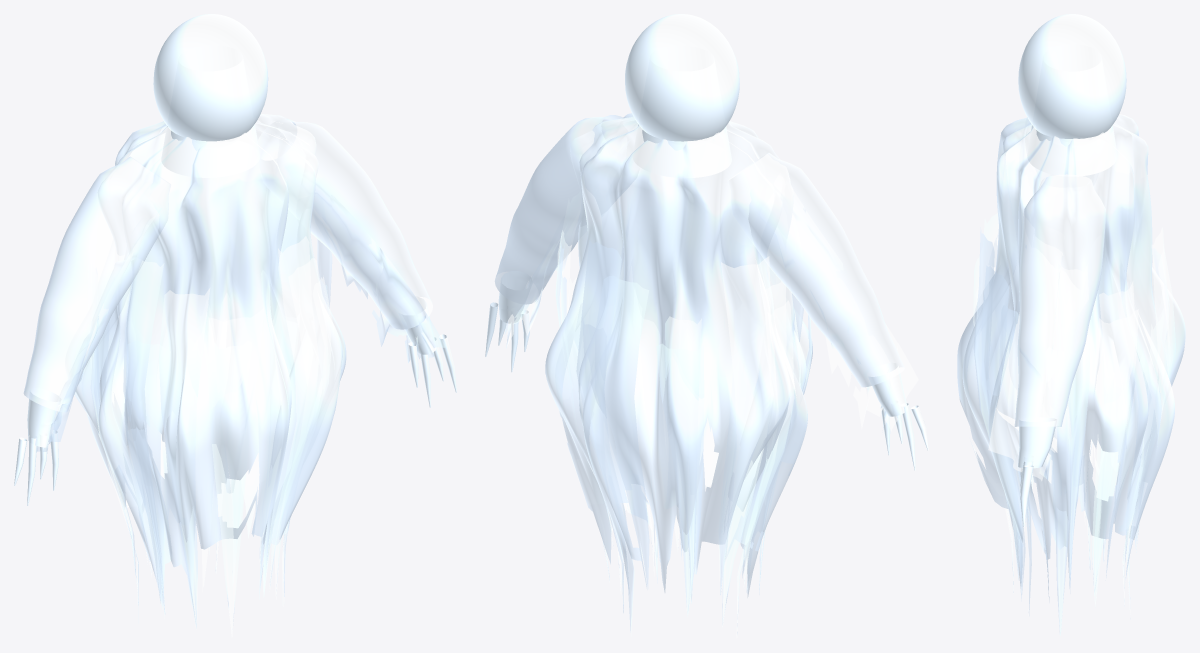
Rendered from teen.glb.
3 renders of one model, left to right at view 1: azimuth 30°, elevation 25°; view 2: azimuth 150°, elevation 25°; view 3: azimuth 270°, elevation 25°, orthographic.
Parts seen in each view (by area): view 1: 01_Main_Draped_Shroud, 03_Left_Flowing_Sleeve, 03_Right_Flowing_Sleeve, 00_Smooth_Featureless_Head, 05_Torn_Layer_13, 05_Torn_Layer_14, 04_Right_Sleeve_Tattered_Curtain, 05_Torn_Layer_16, 05_Torn_Layer_11, 05_Torn_Layer_12, 05_Torn_Layer_17, 02_Head_Neck_Transition (+11 smaller); view 2: 01_Main_Draped_Shroud, 03_Left_Flowing_Sleeve, 03_Right_Flowing_Sleeve, 00_Smooth_Featureless_Head, 05_Torn_Layer_08, 05_Torn_Layer_05, 04_Left_Sleeve_Tattered_Curtain, 05_Torn_Layer_04, 05_Torn_Layer_06, 05_Torn_Layer_07, 02_Head_Neck_Transition, 05_Torn_Layer_17 (+9 smaller); view 3: 01_Main_Draped_Shroud, 03_Right_Flowing_Sleeve, 00_Smooth_Featureless_Head, 04_Right_Sleeve_Tattered_Curtain, 05_Torn_Layer_01, 05_Torn_Layer_02, 05_Torn_Layer_00, 05_Torn_Layer_17, 02_Head_Neck_Transition, 05_Torn_Layer_19, 05_Torn_Layer_16, 05_Torn_Layer_04 (+9 smaller).
Part boxes in pixels (x1,y1,x2,y2): 01_Main_Draped_Shroud: (74, 114, 346, 609); 03_Left_Flowing_Sleeve: (23, 156, 170, 411); 03_Right_Flowing_Sleeve: (258, 119, 432, 329); 00_Smooth_Featureless_Head: (153, 14, 268, 141); 05_Torn_Layer_13: (159, 288, 210, 628); 05_Torn_Layer_14: (208, 308, 264, 636); 04_Right_Sleeve_Tattered_Curtain: (308, 172, 446, 363); 05_Torn_Layer_16: (269, 236, 319, 591); 05_Torn_Layer_11: (125, 341, 170, 603); 05_Torn_Layer_12: (123, 259, 165, 618); 05_Torn_Layer_17: (275, 258, 328, 599); 02_Head_Neck_Transition: (161, 124, 259, 177); 01_Main_Draped_Shroud: (545, 113, 812, 597); 03_Left_Flowing_Sleeve: (728, 152, 904, 387); 03_Right_Flowing_Sleeve: (494, 115, 639, 304); 00_Smooth_Featureless_Head: (625, 14, 739, 141); 05_Torn_Layer_08: (721, 256, 771, 626); 05_Torn_Layer_05: (594, 276, 649, 589); 04_Left_Sleeve_Tattered_Curtain: (774, 193, 918, 432); 05_Torn_Layer_04: (576, 240, 634, 636); 05_Torn_Layer_06: (665, 316, 701, 603); 05_Torn_Layer_07: (656, 343, 704, 616); 02_Head_Neck_Transition: (633, 124, 731, 177); 05_Torn_Layer_17: (640, 320, 671, 565); 01_Main_Draped_Shroud: (957, 114, 1185, 602); 03_Right_Flowing_Sleeve: (1014, 174, 1105, 426); 00_Smooth_Featureless_Head: (1018, 14, 1126, 138); 04_Right_Sleeve_Tattered_Curtain: (988, 205, 1062, 483); 05_Torn_Layer_01: (1094, 281, 1135, 595); 05_Torn_Layer_02: (1092, 309, 1138, 606); 05_Torn_Layer_00: (1058, 267, 1089, 588); 05_Torn_Layer_17: (981, 266, 1025, 600); 02_Head_Neck_Transition: (1027, 125, 1117, 175); 05_Torn_Layer_19: (1052, 357, 1081, 635); 05_Torn_Layer_16: (973, 227, 1018, 579); 05_Torn_Layer_04: (1126, 227, 1170, 618).
Bounding box in the file's own units: 1.26 × 1.63 × 0.5718.
